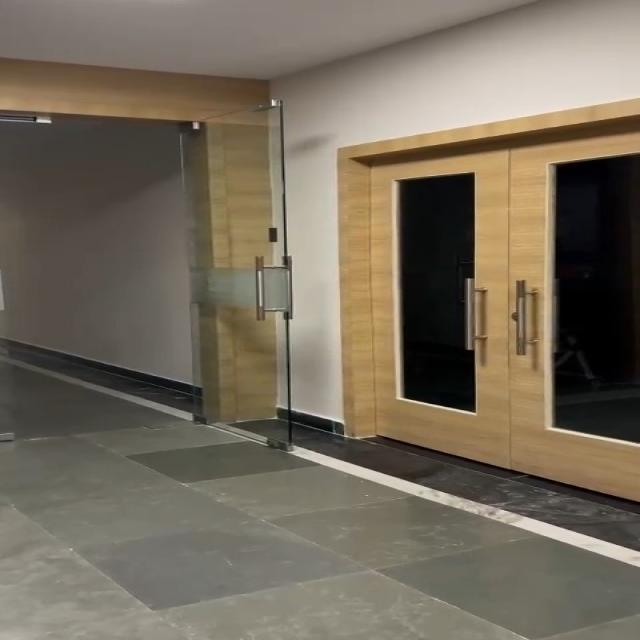door: (336, 143, 640, 427)
floor: (14, 433, 640, 640)
wall: (0, 64, 191, 397)
